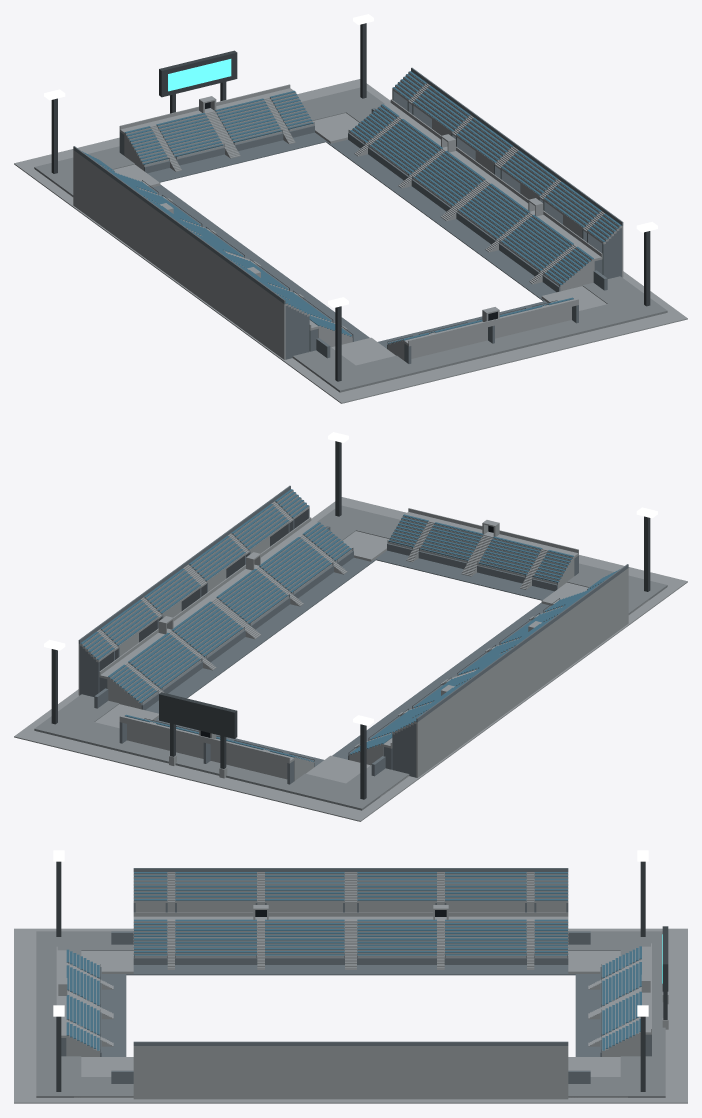
File: stadium_before_access.glb
3 views of the same model, one above another, from view 1: azimuth 30°, elevation 25°; view 2: azimuth 150°, elevation 25°; view 3: azimuth 270°, elevation 25° (orthographic). The views are drawn at different scales.
Parts seen in each view (by area): view 1: Sideline_A_West_Rear_Facade, Runoff_Apron, Perimeter_Paving, South Concourse, North Concourse, Sideline_B_East_Upper_Supports, Sideline_B_East_Section_05_Seating, Sideline_B_East_Section_02_Seating, Sideline_B_East_Section_03_Seating, Sideline_B_East_Section_04_Seating, Sideline_B_East_Front_Wall, Endzone_A_North_Section_03_Seating (+46 smaller); view 2: Sideline_A_West_Rear_Facade, Runoff_Apron, Perimeter_Paving, North Concourse, South Concourse, Scoreboard Panel, Sideline_B_East_Upper_Supports, Sideline_B_East_Section_02_Seating, Sideline_B_East_Section_05_Seating, Sideline_B_East_Section_04_Seating, Sideline_B_East_Section_03_Seating, Sideline_B_East_Front_Wall (+44 smaller); view 3: Sideline_B_East_Rear_Facade, Perimeter_Paving, Runoff_Apron, South Concourse, Sideline_A_West_Rear_Facade, North Concourse, Sideline_A_West_Front_Wall, Sideline_A_West_Section_02_Seating, Sideline_A_West_Section_05_Seating, Sideline_A_West_Section_03_Seating, Sideline_A_West_Section_04_Seating, Sideline_B_East_Upper_Parapet (+53 smaller).
Boxes of the visible parts, left/top/right/bottom form: Sideline_A_West_Rear_Facade: left=73, top=150, right=285, bottom=359; Runoff_Apron: left=147, top=132, right=555, bottom=348; Perimeter_Paving: left=14, top=79, right=687, bottom=403; South Concourse: left=319, top=296, right=667, bottom=392; North Concourse: left=34, top=87, right=383, bottom=183; Sideline_B_East_Upper_Supports: left=392, top=90, right=621, bottom=278; Sideline_B_East_Section_05_Seating: left=501, top=214, right=573, bottom=270; Sideline_B_East_Section_02_Seating: left=370, top=119, right=442, bottom=174; Sideline_B_East_Section_03_Seating: left=413, top=151, right=485, bottom=205; Sideline_B_East_Section_04_Seating: left=458, top=183, right=530, bottom=238; Sideline_B_East_Front_Wall: left=348, top=133, right=560, bottom=292; Endzone_A_North_Section_03_Seating: left=215, top=98, right=281, bottom=142; Sideline_A_West_Rear_Facade: left=416, top=568, right=628, bottom=777; Runoff_Apron: left=146, top=550, right=554, bottom=766; Perimeter_Paving: left=14, top=497, right=687, bottom=821; North Concourse: left=34, top=713, right=383, bottom=810; South Concourse: left=319, top=505, right=667, bottom=600; Scoreboard Panel: left=159, top=692, right=237, bottom=738; Sideline_B_East_Upper_Supports: left=80, top=508, right=309, bottom=696; Sideline_B_East_Section_02_Seating: left=128, top=632, right=200, bottom=688; Sideline_B_East_Section_05_Seating: left=259, top=537, right=331, bottom=592; Sideline_B_East_Section_04_Seating: left=216, top=569, right=288, bottom=623; Sideline_B_East_Section_03_Seating: left=171, top=601, right=243, bottom=656; Sideline_B_East_Front_Wall: left=141, top=551, right=353, bottom=710; Sideline_B_East_Rear_Facade: left=133, top=1046, right=568, bottom=1099; Perimeter_Paving: left=14, top=928, right=687, bottom=1103; Runoff_Apron: left=101, top=965, right=600, bottom=1056; South Concourse: left=36, top=931, right=81, bottom=1097; Sideline_A_West_Rear_Facade: left=135, top=903, right=566, bottom=912; North Concourse: left=620, top=931, right=665, bottom=1097; Sideline_A_West_Front_Wall: left=133, top=957, right=568, bottom=964; Sideline_A_West_Section_02_Seating: left=175, top=919, right=256, bottom=955; Sideline_A_West_Section_05_Seating: left=445, top=919, right=526, bottom=955; Sideline_A_West_Section_03_Seating: left=265, top=919, right=344, bottom=955; Sideline_A_West_Section_04_Seating: left=357, top=919, right=436, bottom=955; Sideline_B_East_Upper_Parapet: left=133, top=1041, right=568, bottom=1045.
Size of the model in its own units: 110 by 25.24 by 180.
